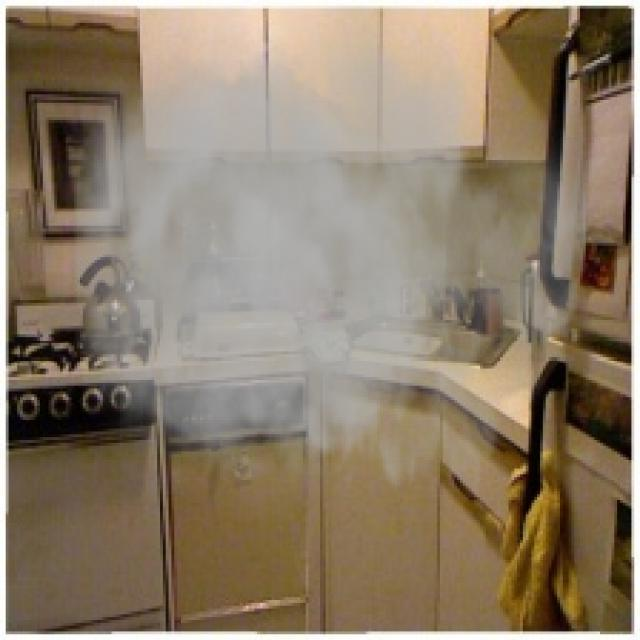Smoke: (43, 6, 586, 552)
